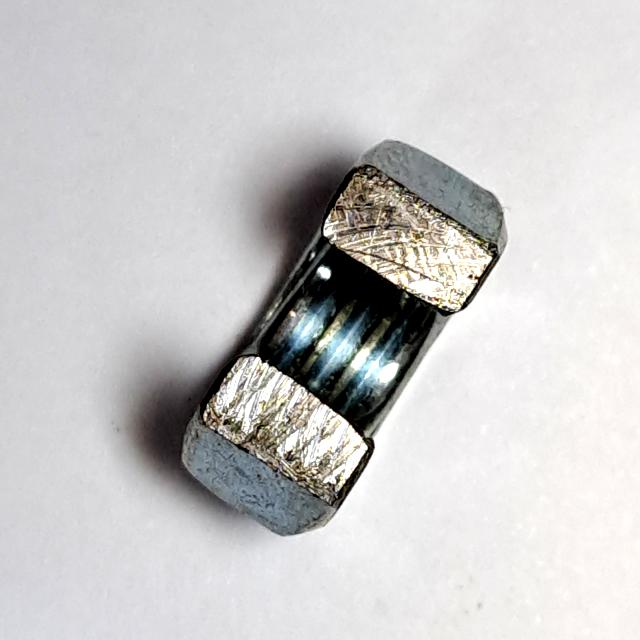Side-Fracture: (166, 128, 524, 551)
